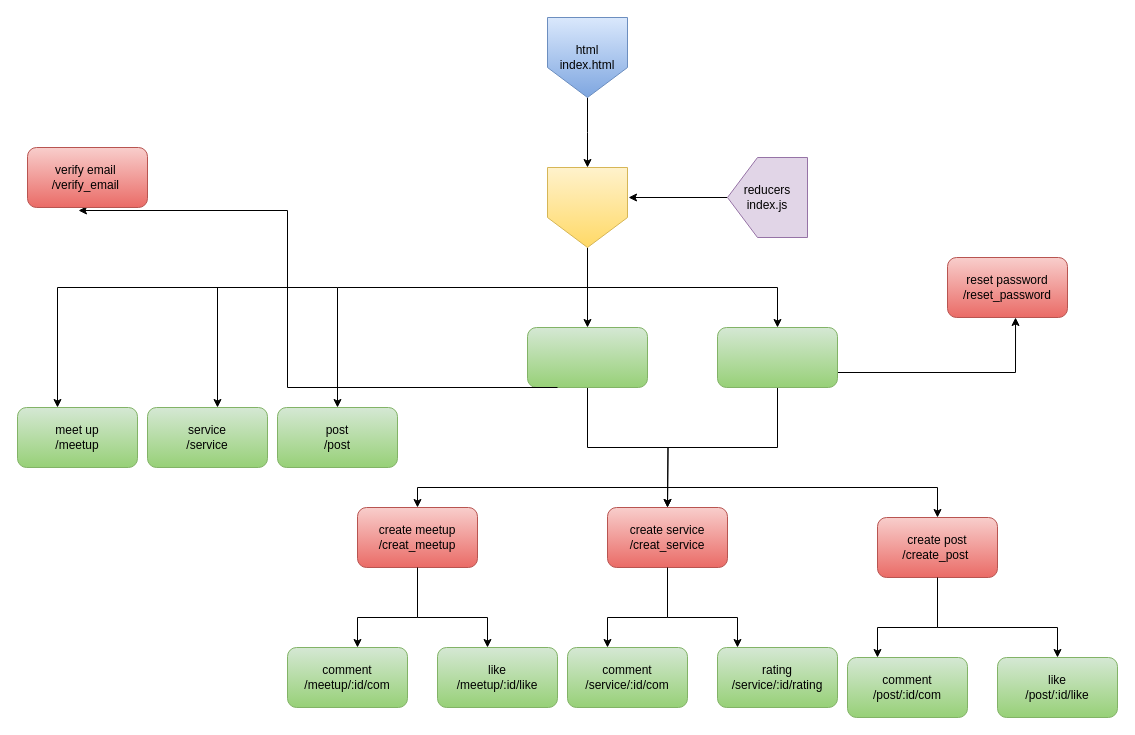
The diagram is 1135 pixels wide and 735 high, and some of its shapes have lost their labels. Here are the shapes that lost their labels. From the top down, the centre of each, then its label:
At [587,207]: "APP index.js".
At [587,357]: "sign up /signup".
At [777,357]: "login /login".
